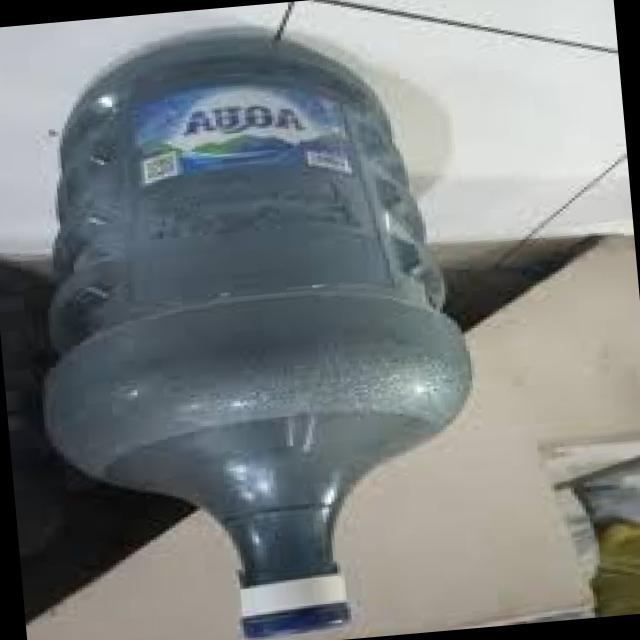Galon: (5, 20, 496, 640)
